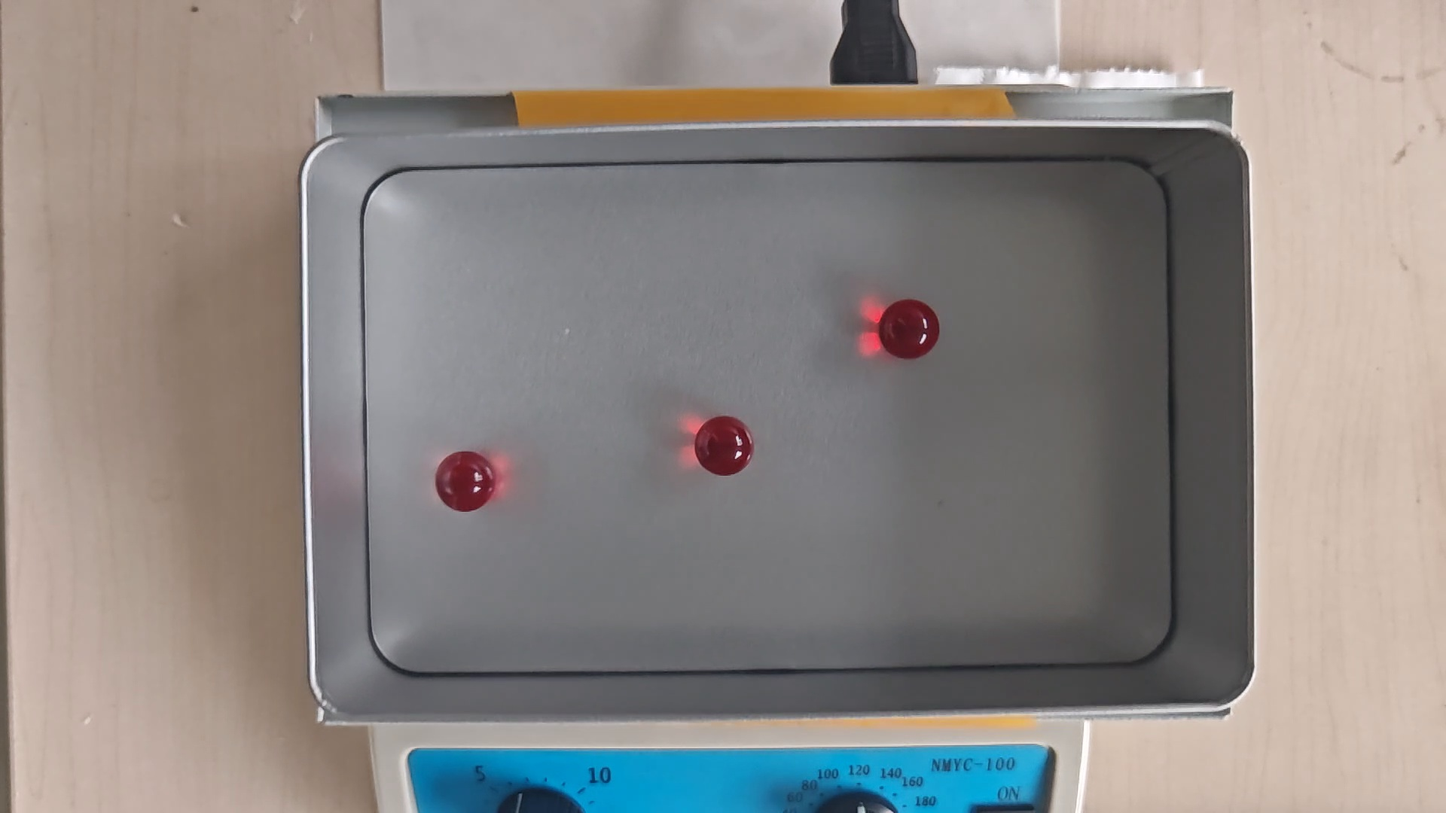ball: (694, 416, 754, 477), (880, 298, 939, 360), (436, 451, 493, 512)
container: (362, 163, 1173, 665)
